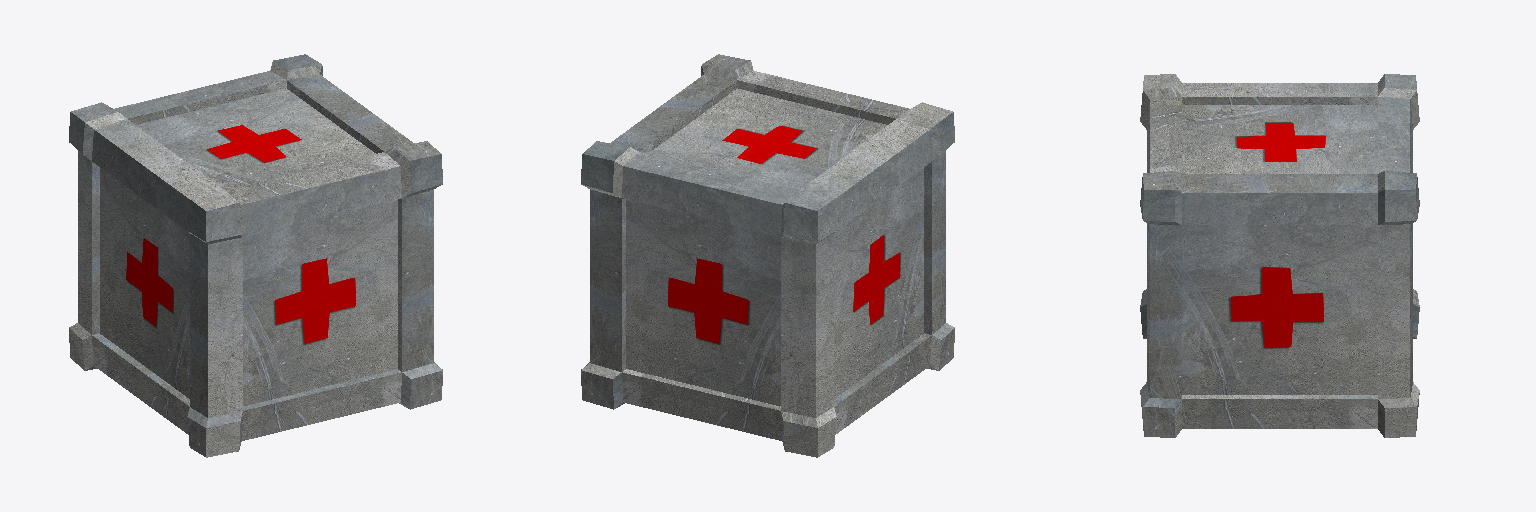
The picture shows the model from 3 angles: view 1: azimuth 30°, elevation 25°; view 2: azimuth 150°, elevation 25°; view 3: azimuth 270°, elevation 25°; orthographic projection.
Size of the model in its own units: 2.25 by 2.25 by 2.26.
Materials: 2 (1 with a texture image).